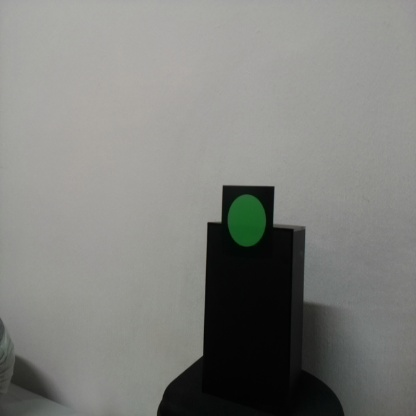id_5: (223, 186, 274, 269)
